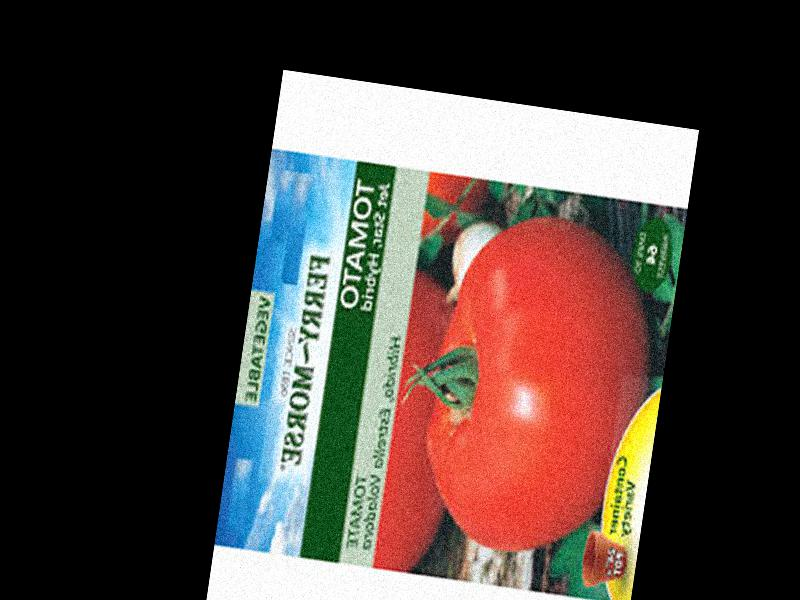Tomato: (412, 203, 669, 564)
